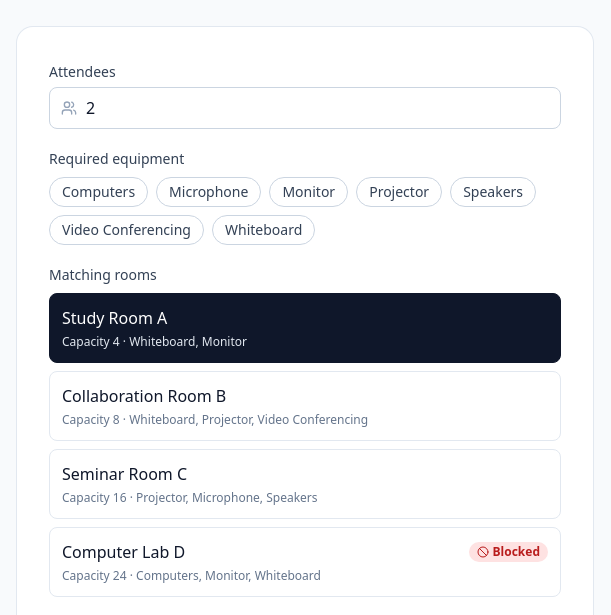
Scenario: Explain availability (mock adapter UI) › shows a mock explanation without changing the confirmed status
Click the button "Study Room A Capacity 4 · Whiteboard, Monitor".
click(115, 318)  # box left=49, top=293, right=561, bottom=363
(page scrolled)
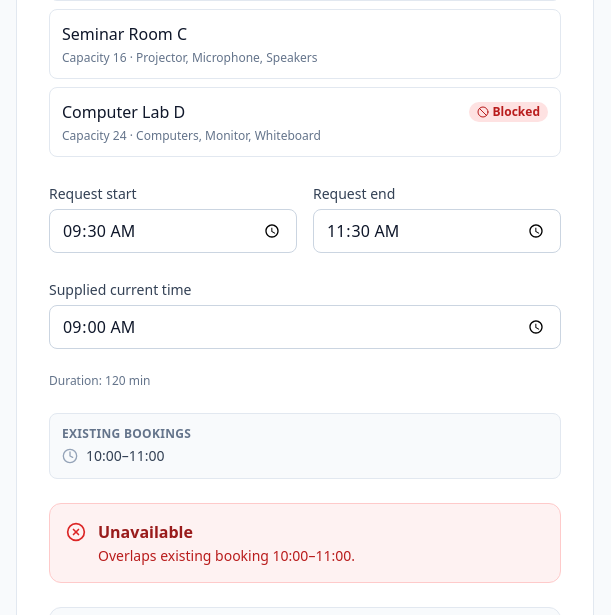
Replace the text in the time field labelled "Request start" with "10:30" at point(173, 231), box left=49, top=209, right=297, bottom=253
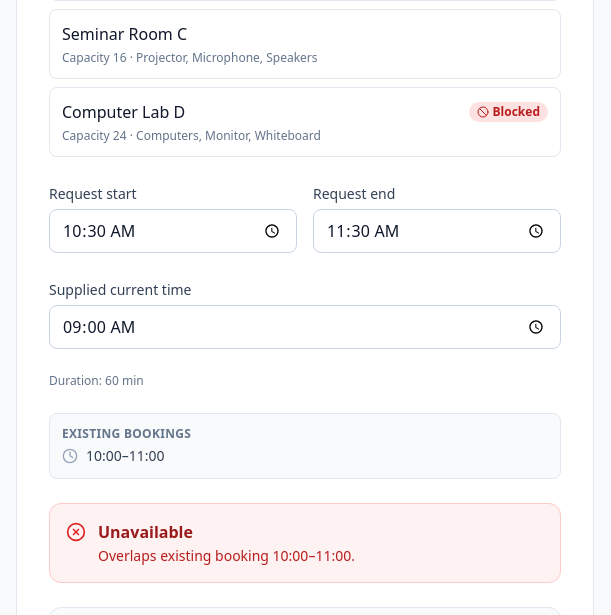
Replace the text in the time field labelled "Request end" with "11:00" at point(437, 231), box left=313, top=209, right=561, bottom=253
(page scrolled)
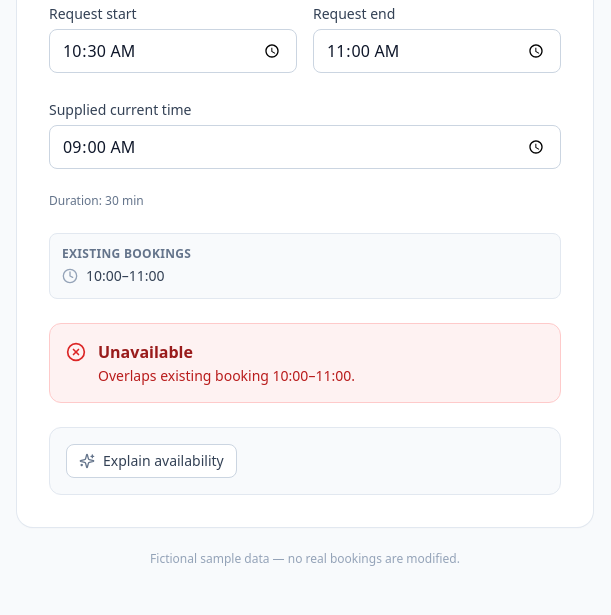
Expected: the text "Unavailable" is shown, left=98, top=341, right=193, bottom=363
Click the button "Explain availability".
click(151, 461)  # box left=66, top=444, right=237, bottom=478
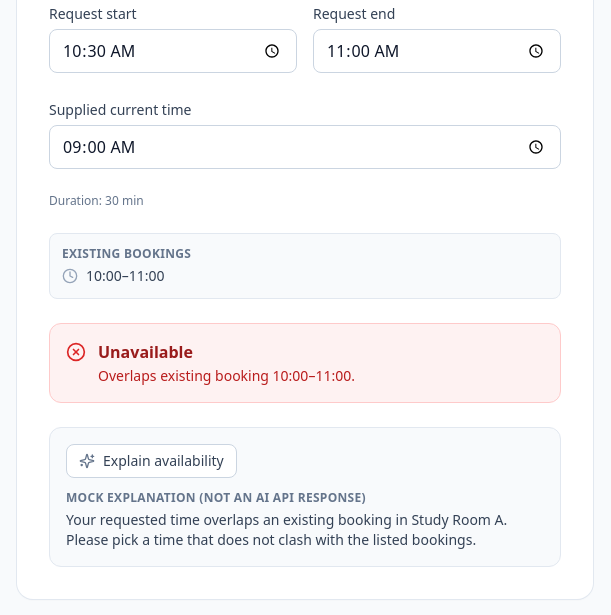
Expected: the text "Unavailable" is shown, left=98, top=341, right=193, bottom=363
Expected: the text "Mock explanation (not an AI API response)" is shown, left=66, top=489, right=366, bottom=506
Expected: the text "overlaps an existing booking" is shown, left=66, top=510, right=507, bottom=549
